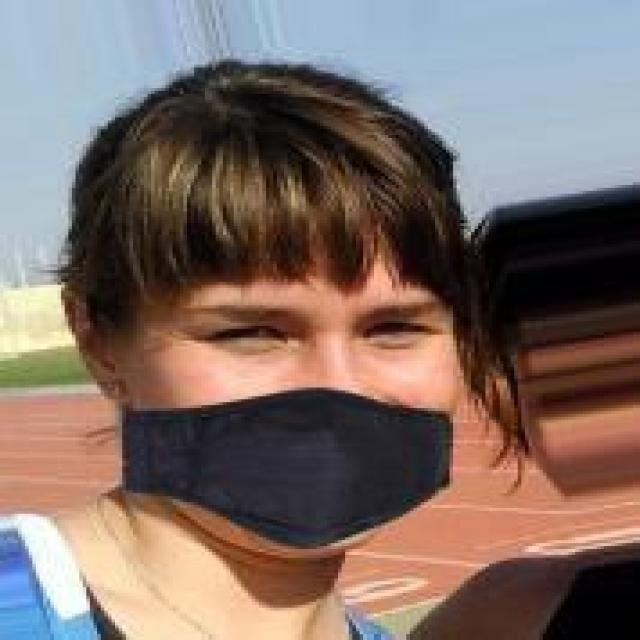mask: (54, 47, 493, 558)
